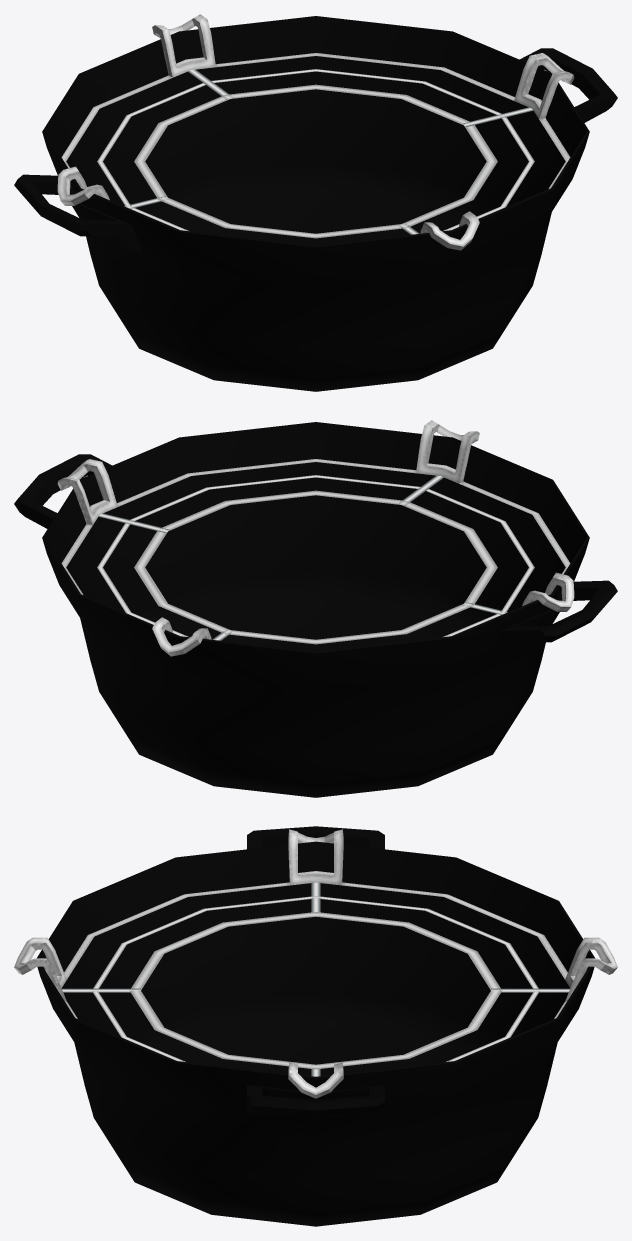
The model's file is Stage_nabe.fbx.
The picture shows the model from 3 angles, top to bottom: view 1: azimuth 30°, elevation 25°; view 2: azimuth 150°, elevation 25°; view 3: azimuth 270°, elevation 25°; orthographic projection. The views are drawn at different scales.
Visible parts, largest first — view 1: polySurface19; view 2: polySurface19; view 3: polySurface19.
Boxes of the visible parts, box(x1,y1,x2,y2) form: polySurface19: box(14, 14, 617, 391); polySurface19: box(14, 420, 617, 797); polySurface19: box(14, 826, 617, 1226).
Bounding box in the file's own units: 0.269 × 0.0847 × 0.2448.
1 material, 1 textured.
